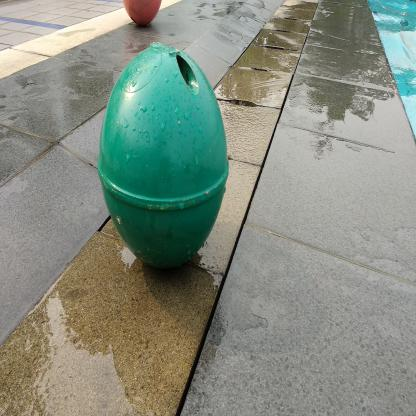green_buoy: (95, 39, 233, 280)
